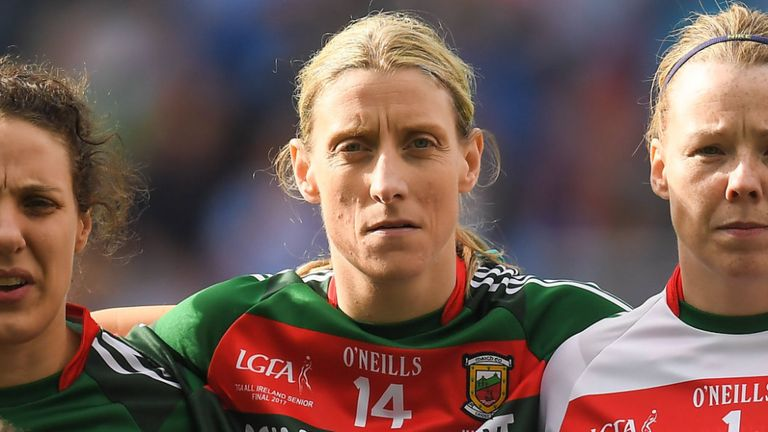ball: (178, 15, 590, 428)
player: (599, 1, 763, 427), (3, 53, 123, 428)
